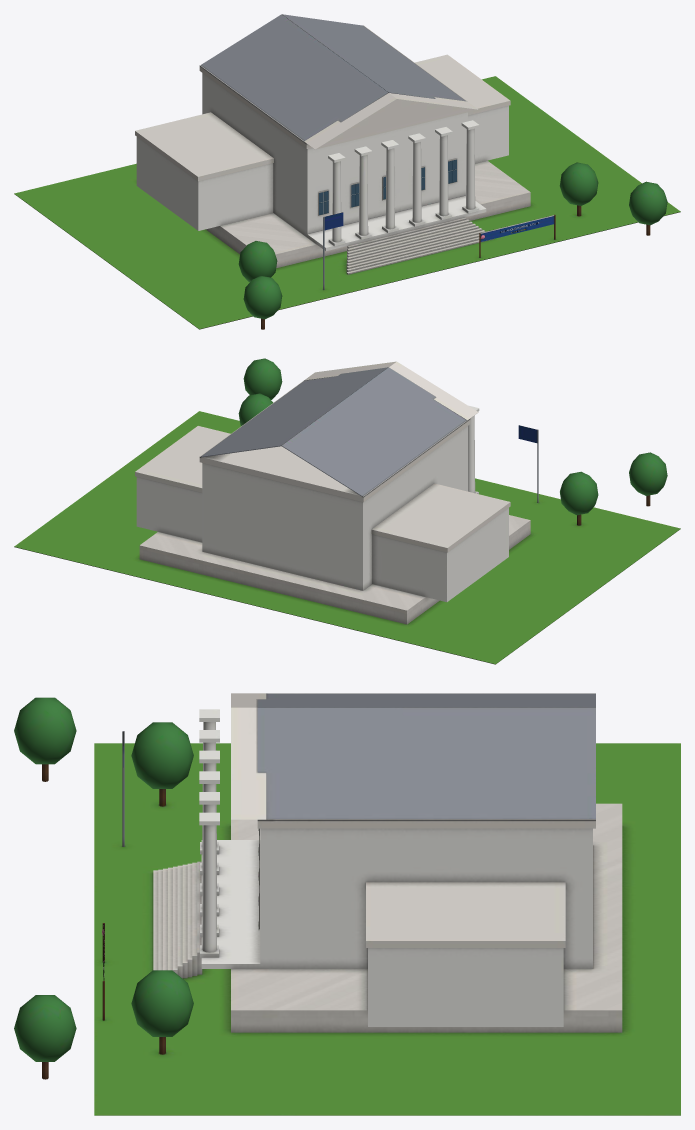
Rendered from capitolio_va.glb.
The picture shows the model from 3 angles, top to bottom: view 1: azimuth 30°, elevation 25°; view 2: azimuth 150°, elevation 25°; view 3: azimuth 270°, elevation 25°; orthographic projection. The views are drawn at different scales.
Visible parts, largest first — view 1: capitolio_va; view 2: capitolio_va; view 3: capitolio_va.
Boxes of the visible parts, x1,y1,x2,y2 form: capitolio_va: (14,14,680,329); capitolio_va: (14,358,680,664); capitolio_va: (14,693,680,1115).
Bounding box in the file's own units: 90 × 25.11 × 68.2.
Materials: 1 (1 with a texture image).
